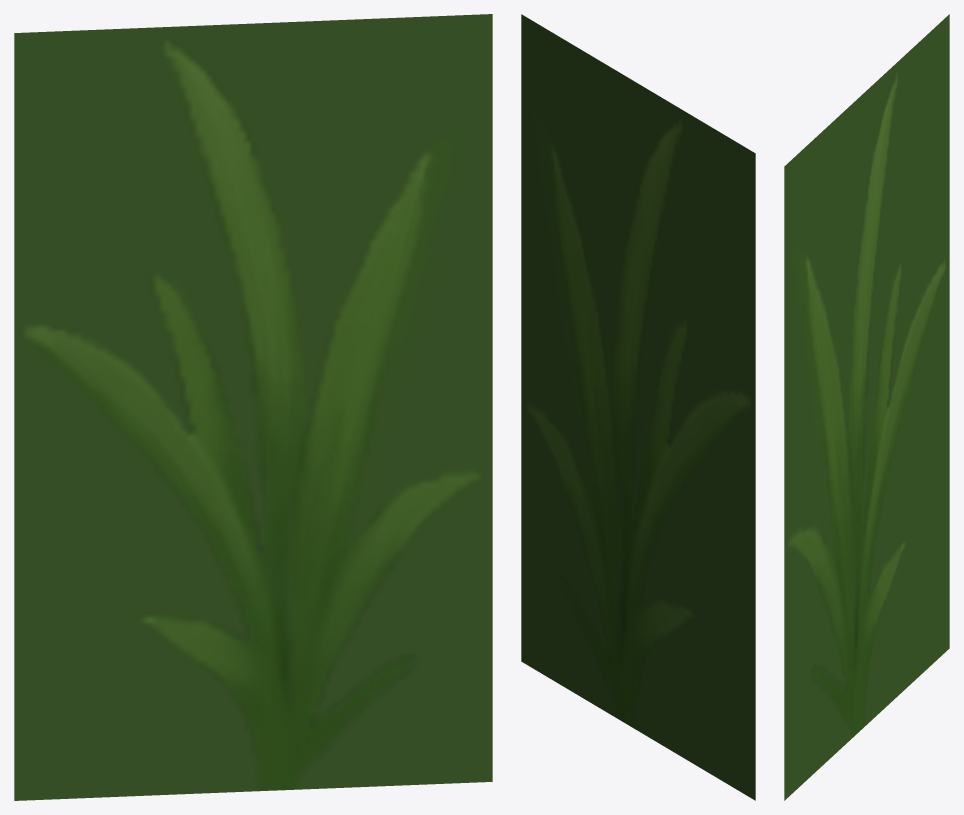
File: Battles_Forest_Grass_20a.FBX
3 views of the same model, side by side, from view 1: azimuth 30°, elevation 25°; view 2: azimuth 150°, elevation 25°; view 3: azimuth 270°, elevation 25° (orthographic). The views are drawn at different scales.
Visible parts, largest first — view 1: Battles_Forest_Grass_20a; view 2: Battles_Forest_Grass_20a; view 3: Battles_Forest_Grass_20a.
Part boxes in pixels (bbox=[...]): Battles_Forest_Grass_20a: bbox=[14, 14, 492, 800]; Battles_Forest_Grass_20a: bbox=[521, 14, 755, 800]; Battles_Forest_Grass_20a: bbox=[784, 14, 949, 800].
Bounding box in the file's own units: 41.98 × 81.43 × 19.22.
